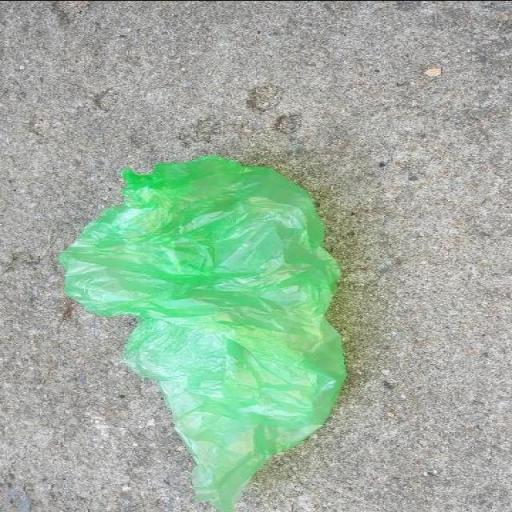plastic-bag: (54, 153, 350, 512)
